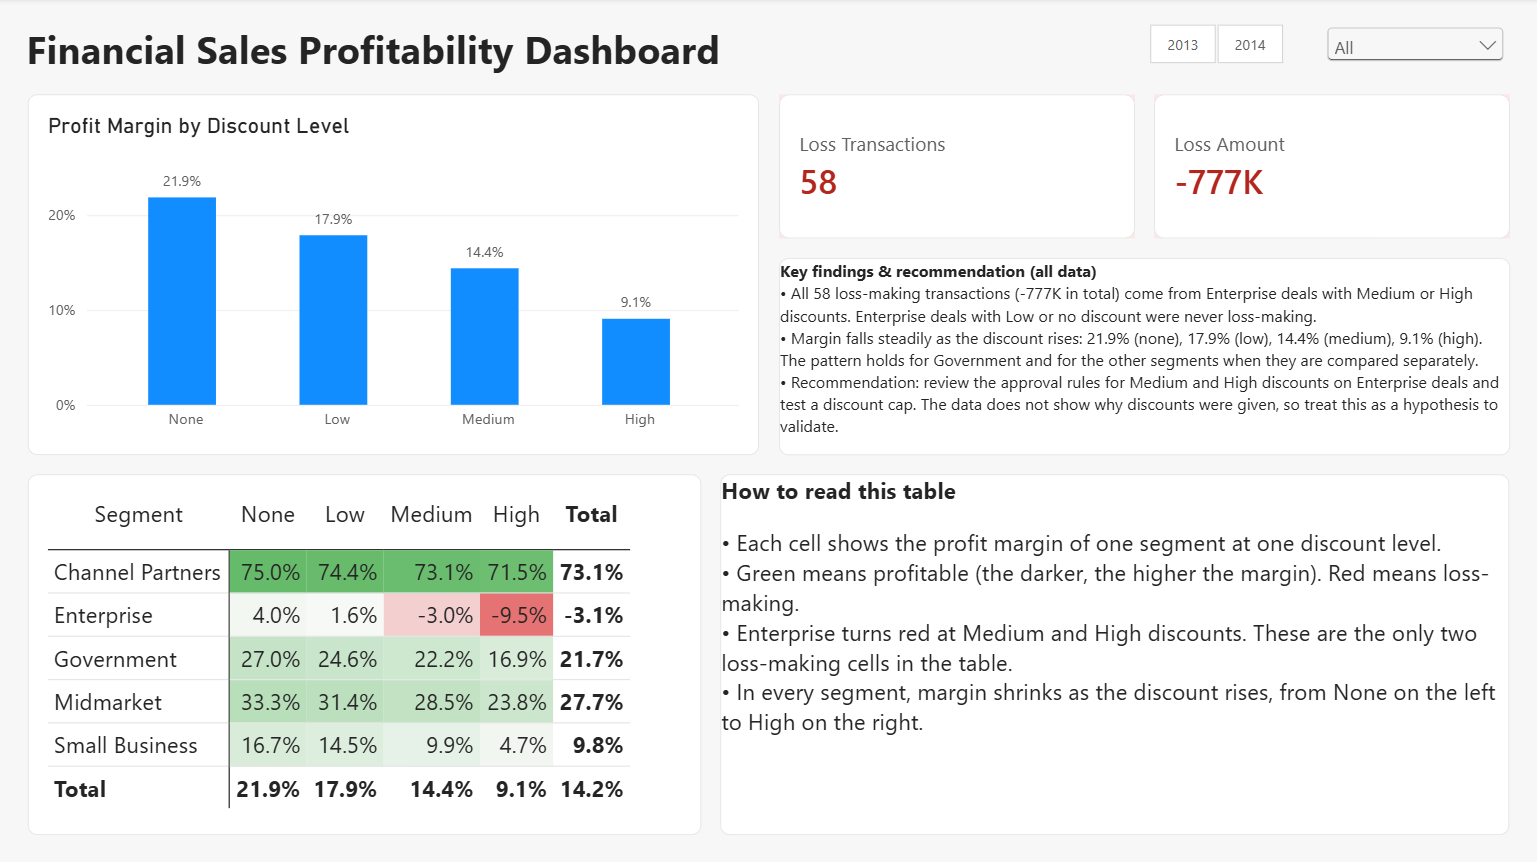

The dashboard page shown, as its layout file describes it:
{"tool":"powerbi","page":{"name":"Discount & Loss","canvas":[1280,720],"ordinal":3},"visuals":[{"type":"slicer","fields":{"Values":["Dim_Date.Year"]},"box":[936,20,150,36],"z":0},{"type":"slicer","fields":{"Values":["Dim_Country.Country"]},"box":[1100,20,156,36],"z":1},{"type":"textbox","box":[23.3,20.6,587.3,49.4],"z":2},{"type":"cardVisual","fields":{"Data":["_Measures.Loss Transactions"]},"box":[648,80,296,120],"z":3},{"type":"cardVisual","fields":{"Data":["_Measures.Loss Amount"]},"box":[960,80.5,296,120],"z":4},{"type":"clusteredColumnChart","title":"Profit Margin by Discount Level","fields":{"Category":["Dim_DiscountBand.Discount Band"],"Y":["_Measures.Profit Margin %"]},"box":[24,80,608,300],"z":5},{"type":"textbox","box":[648,216,608,164],"z":6},{"type":"pivotTable","fields":{"Columns":["Dim_DiscountBand.Discount Band"],"Rows":["Dim_Segment.Segment"],"Values":["_Measures.Profit Margin %"]},"box":[24,396,560,300],"z":7},{"type":"textbox","box":[600,396,656,300],"z":8}]}

Visuals, with their boxes in screenshot pixels (x1, y1, x2, y2), scaled from the page's 1280x720 canvas onto the 1537x862 screenshot:
slicer - Dim_Date.Year: bbox=[1124, 24, 1304, 67]
slicer - Dim_Country.Country: bbox=[1321, 24, 1508, 67]
textbox: bbox=[28, 25, 733, 84]
cardVisual - _Measures.Loss Transactions: bbox=[778, 96, 1134, 239]
cardVisual - _Measures.Loss Amount: bbox=[1153, 96, 1508, 240]
"Profit Margin by Discount Level" clusteredColumnChart: bbox=[29, 96, 759, 455]
textbox: bbox=[778, 259, 1508, 455]
pivotTable - Dim_DiscountBand.Discount Band x Dim_Segment.Segment: bbox=[29, 474, 701, 833]
textbox: bbox=[720, 474, 1508, 833]
